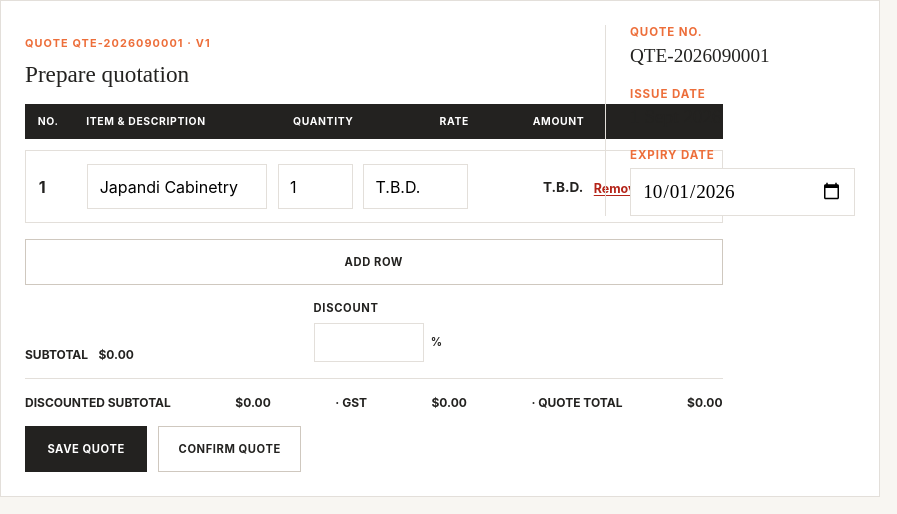
Test: replaces a T.B.D. rate with a numeric quote
This screenshot has width=897, height=514.
Click the field named "Line 1 rate" at {"x": 416, "y": 187}, box [363,164,468,209]
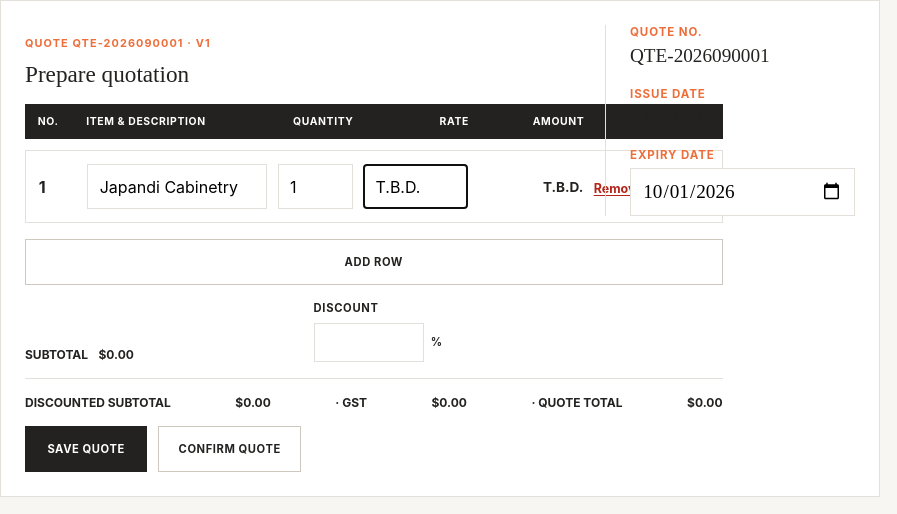
Type keys "1250"
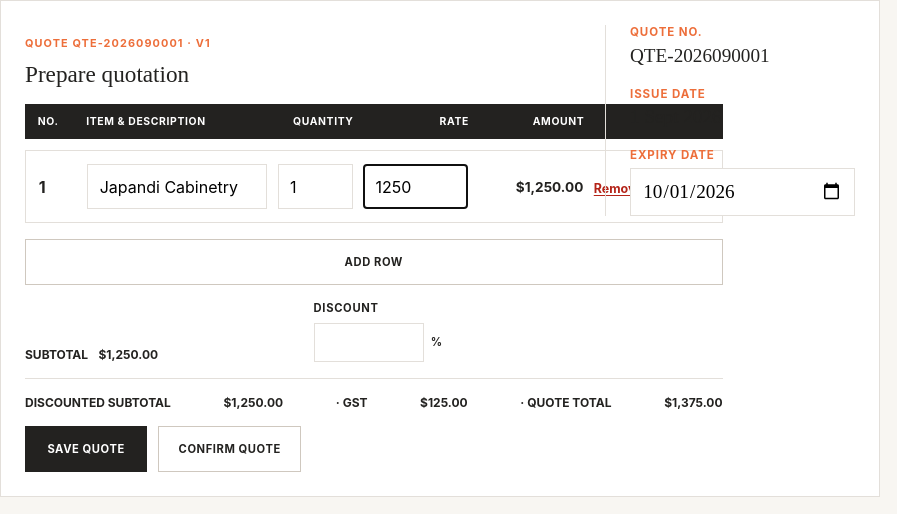
Expected: the field named "Line 1 rate" holds "1250", [363,164,468,209]
Expected: the text named "Line 1 amount" reads "$1,250.00", [516,179,583,195]
